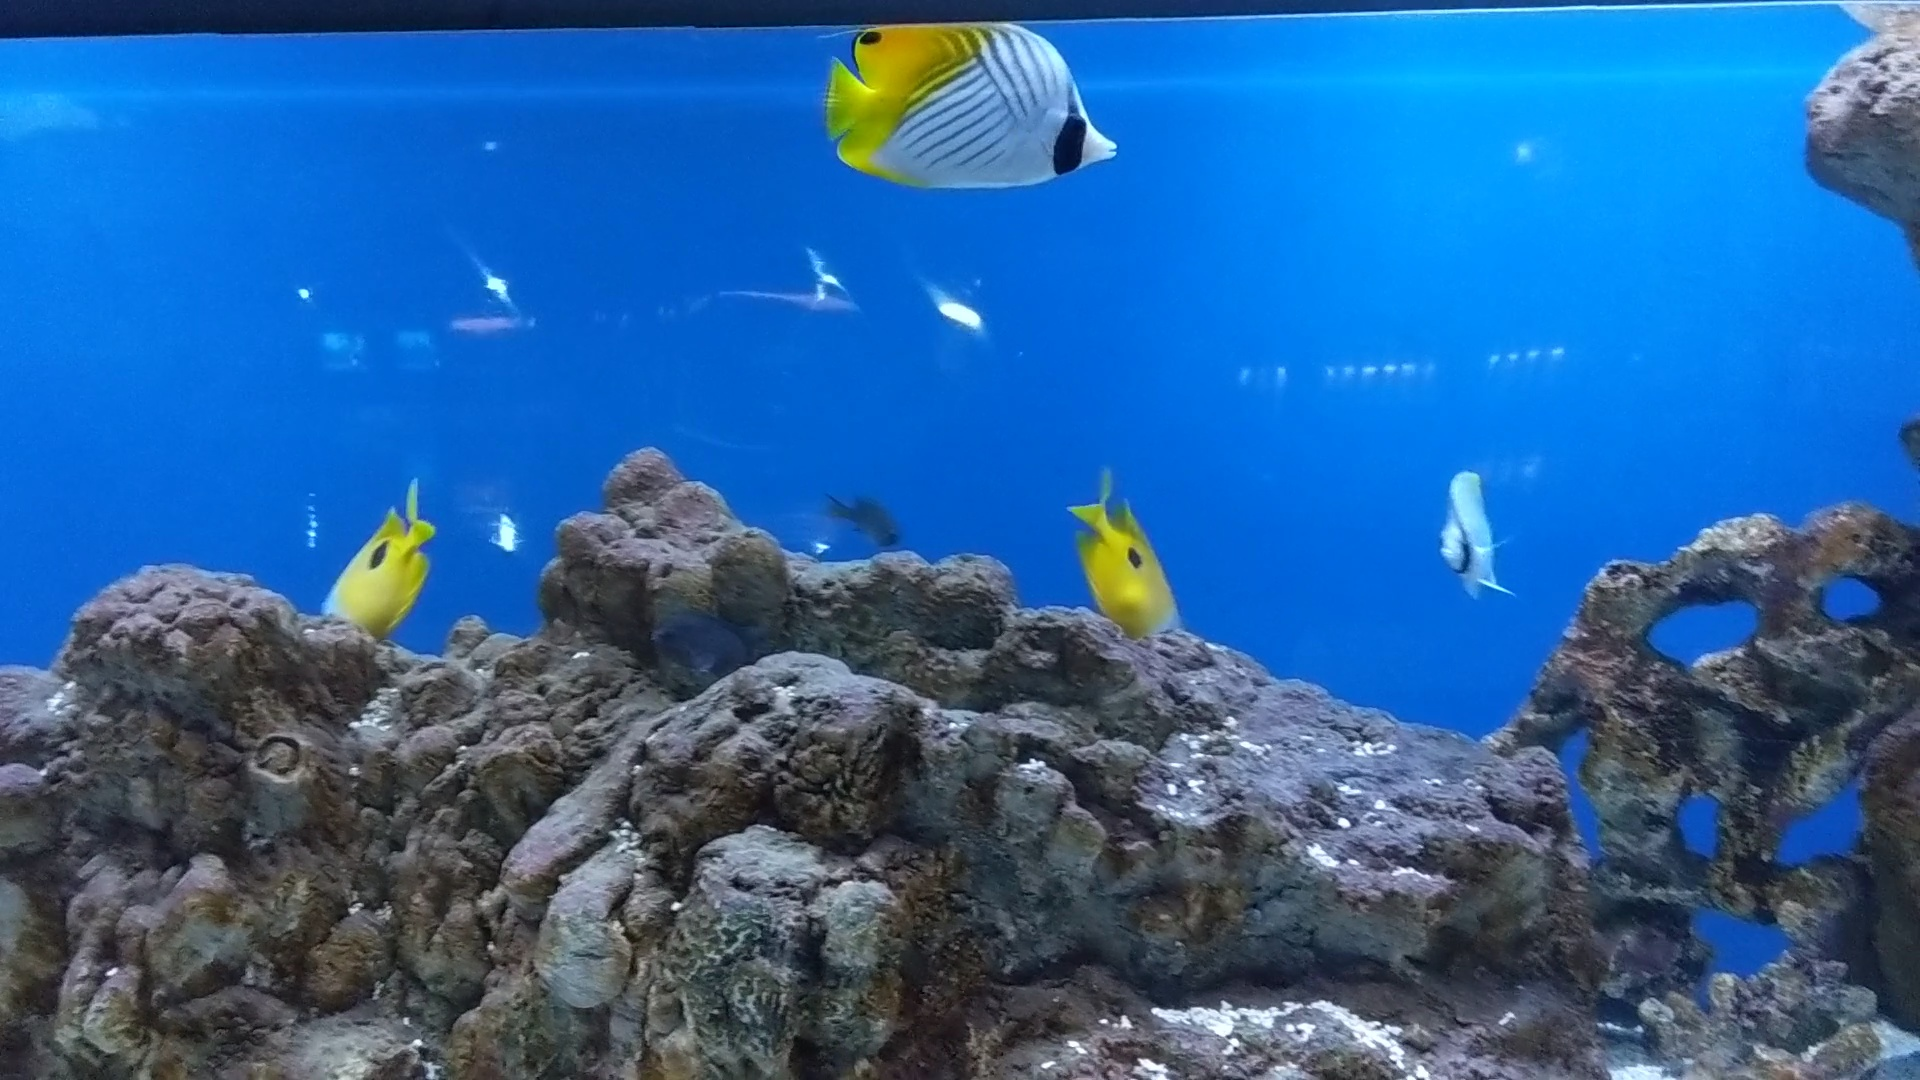butterflyfish: (820, 0, 1122, 174)
moorfish: (1424, 464, 1513, 584)
rabbitfish: (293, 464, 448, 630), (1044, 479, 1195, 642)
